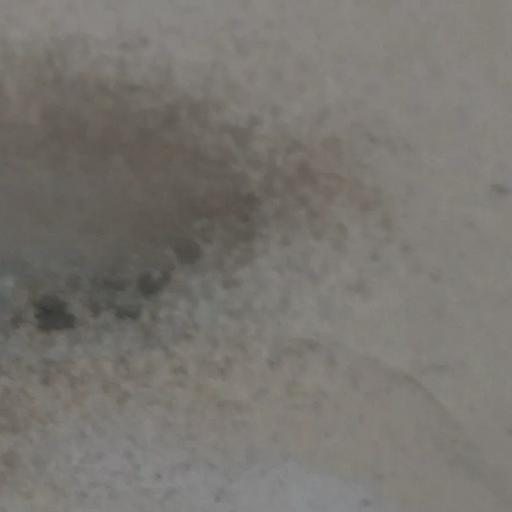stain: (4, 6, 436, 434)
